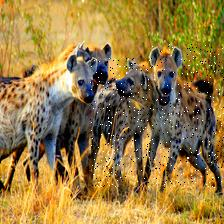hyena: (0, 52, 101, 203), (149, 44, 224, 188), (89, 59, 155, 188)
